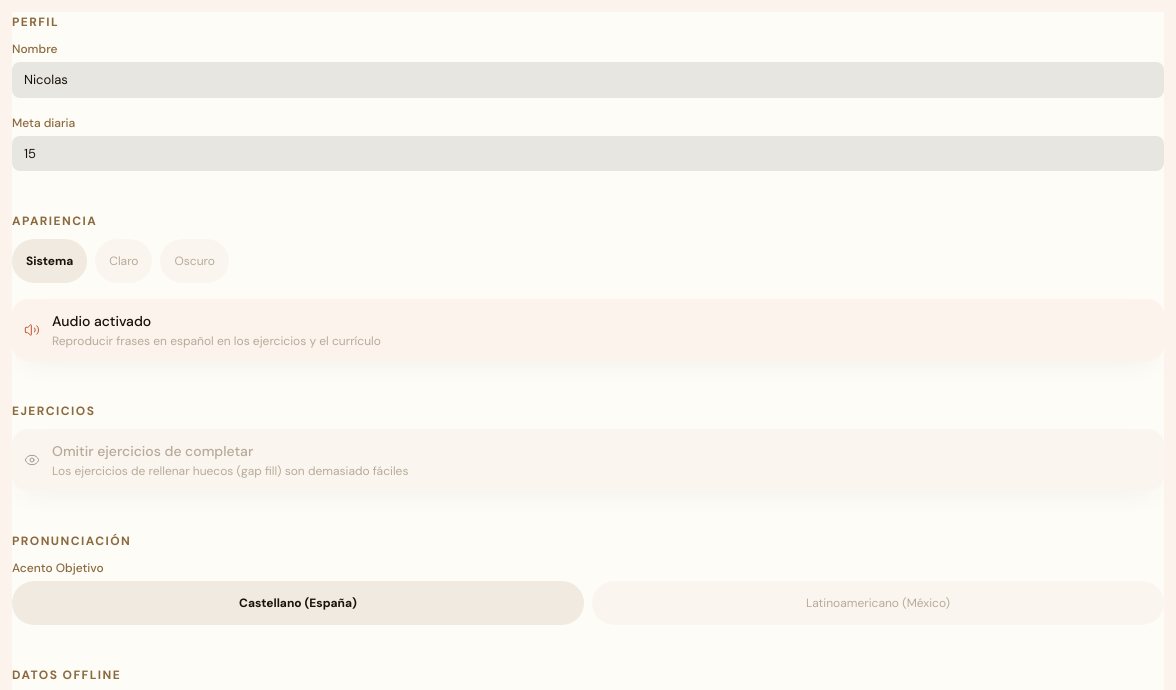
AccountForm › shows error text when skip gap_fill toggle API fails
Click the text "Omitir ejercicios de completar".
click(153, 451)  # box 52,442 -> 253,460
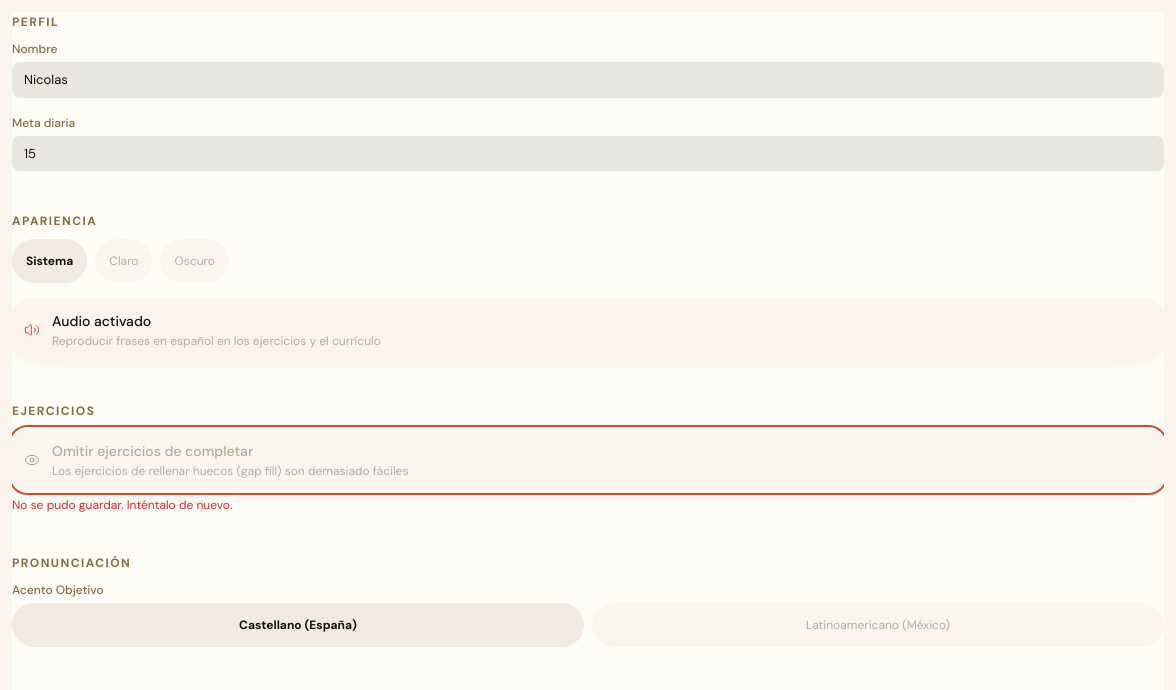
Expected: the text "No se pudo guardar. Inténtalo de nuevo." is shown, 12,497 -> 232,513
